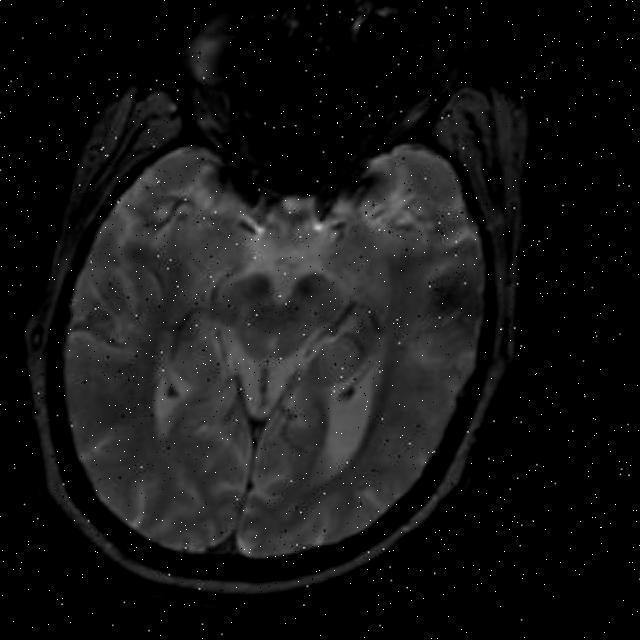CN: (49, 268, 153, 392), (118, 167, 244, 260), (406, 241, 504, 346)
